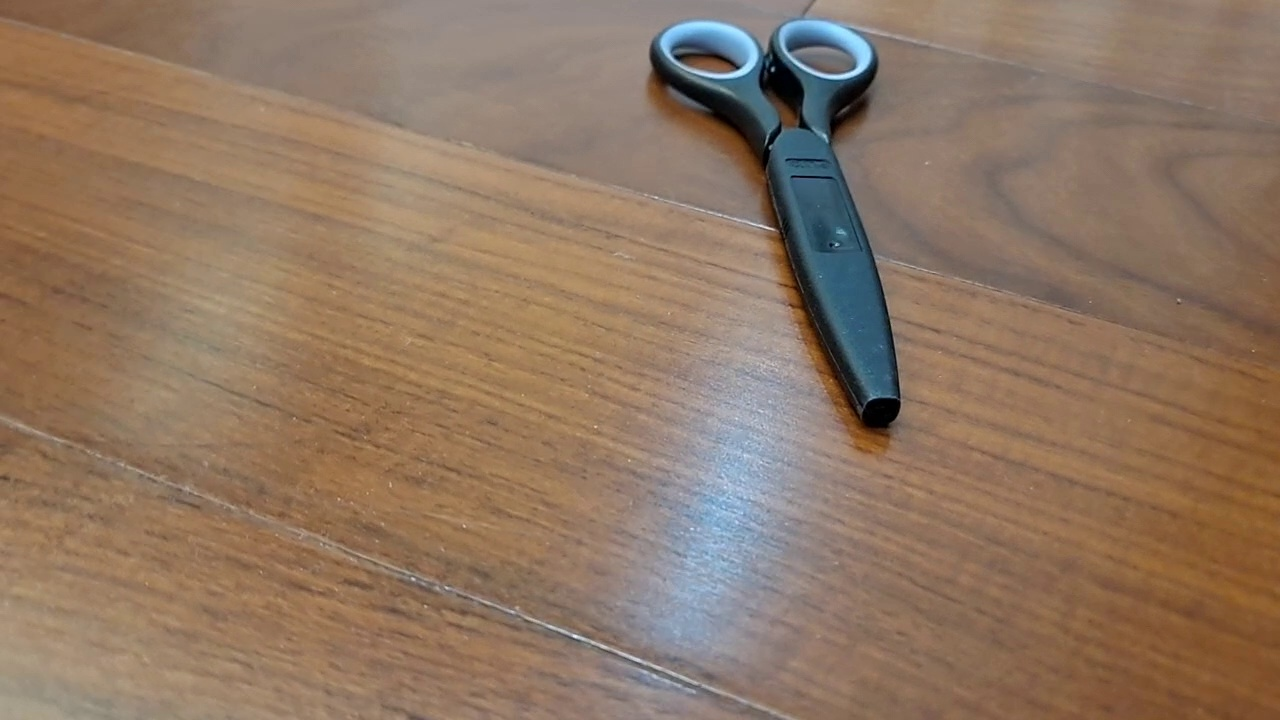scissors: (649, 17, 902, 430)
